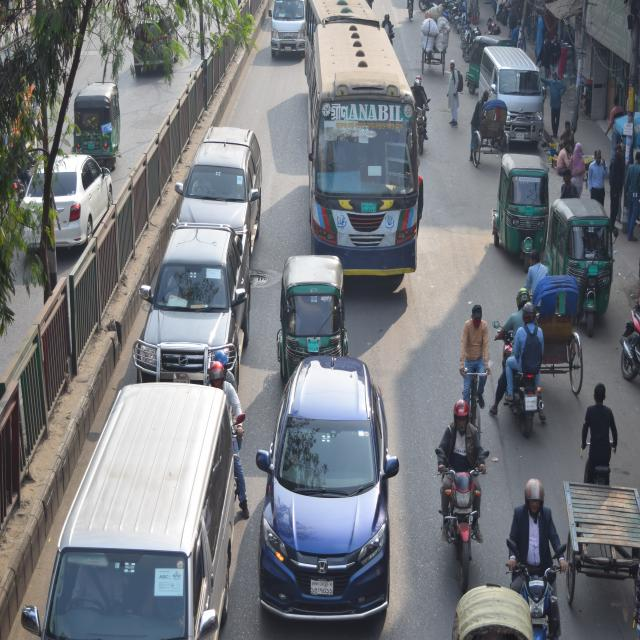bus: (304, 24, 422, 268), (271, 0, 315, 50)
car: (258, 347, 404, 613), (140, 211, 240, 355), (177, 122, 266, 234), (21, 148, 115, 245)
microbus: (34, 379, 210, 640), (476, 39, 550, 157)
motorbike: (428, 385, 492, 588), (494, 300, 559, 449)
